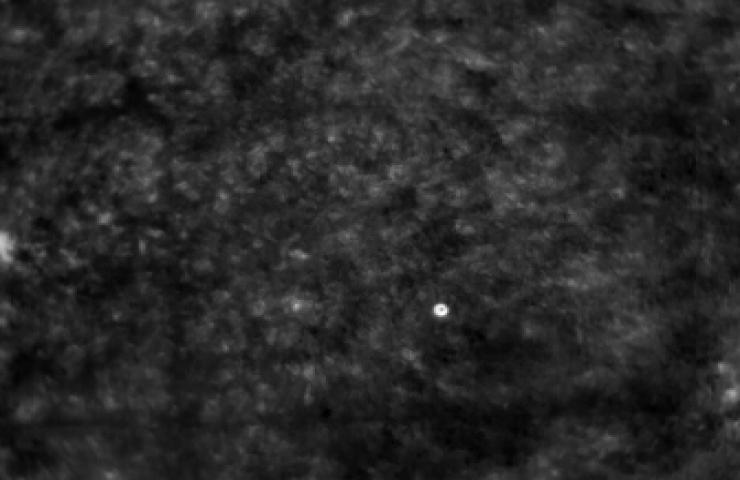landmines: (431, 302, 452, 321)
